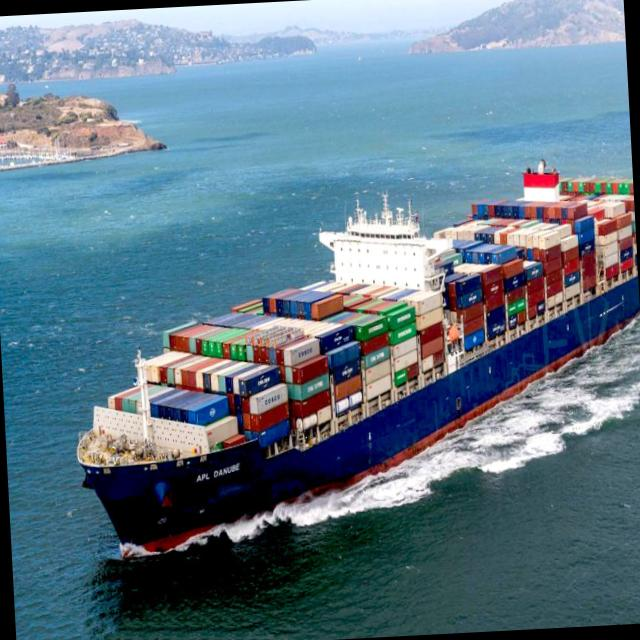boat: (60, 137, 640, 576)
